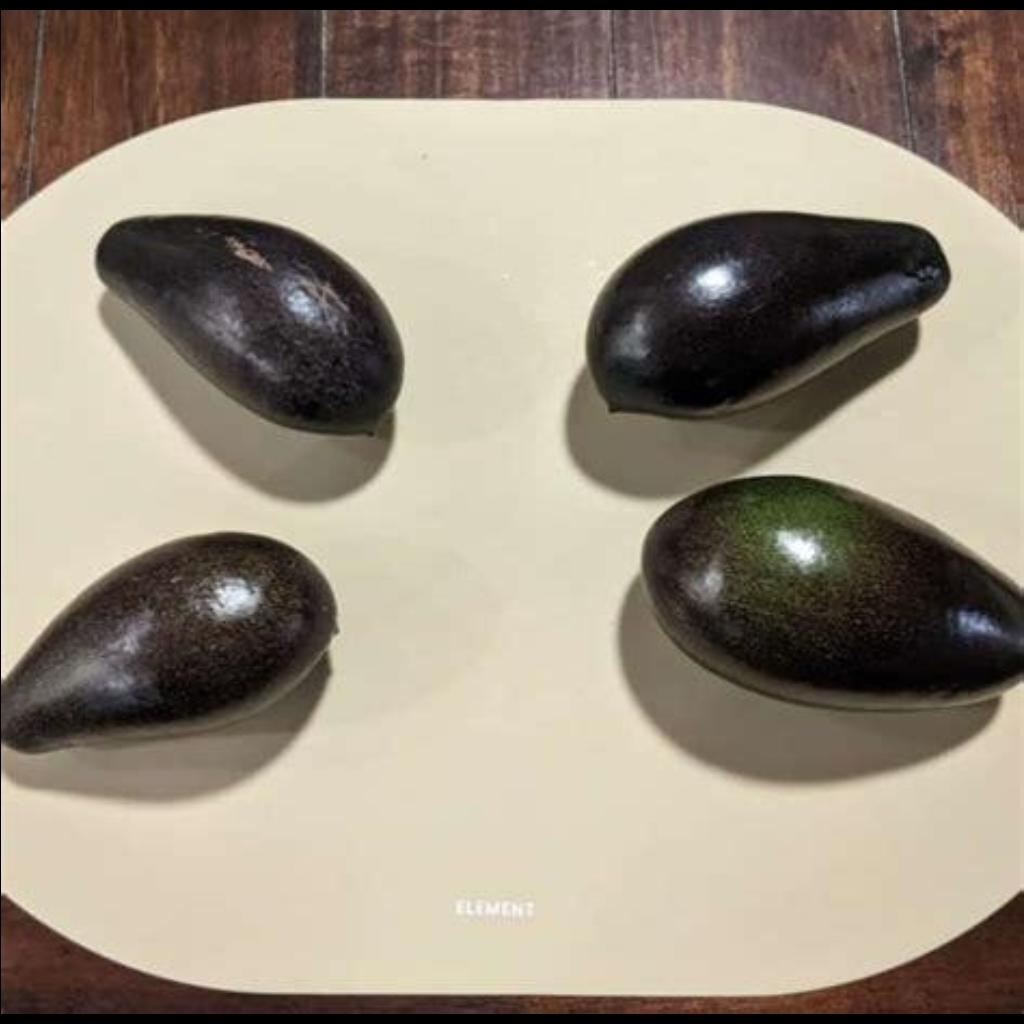Healthy: (588, 446, 1024, 726), (528, 182, 966, 426), (74, 196, 442, 456), (3, 522, 351, 756)
